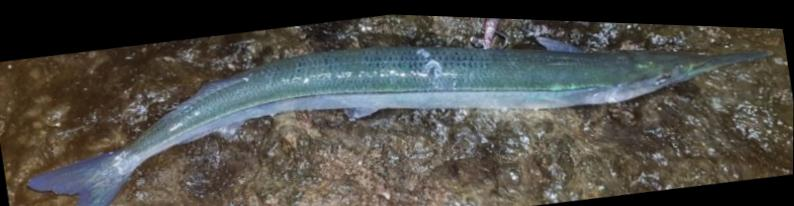fish: (25, 30, 772, 206)
